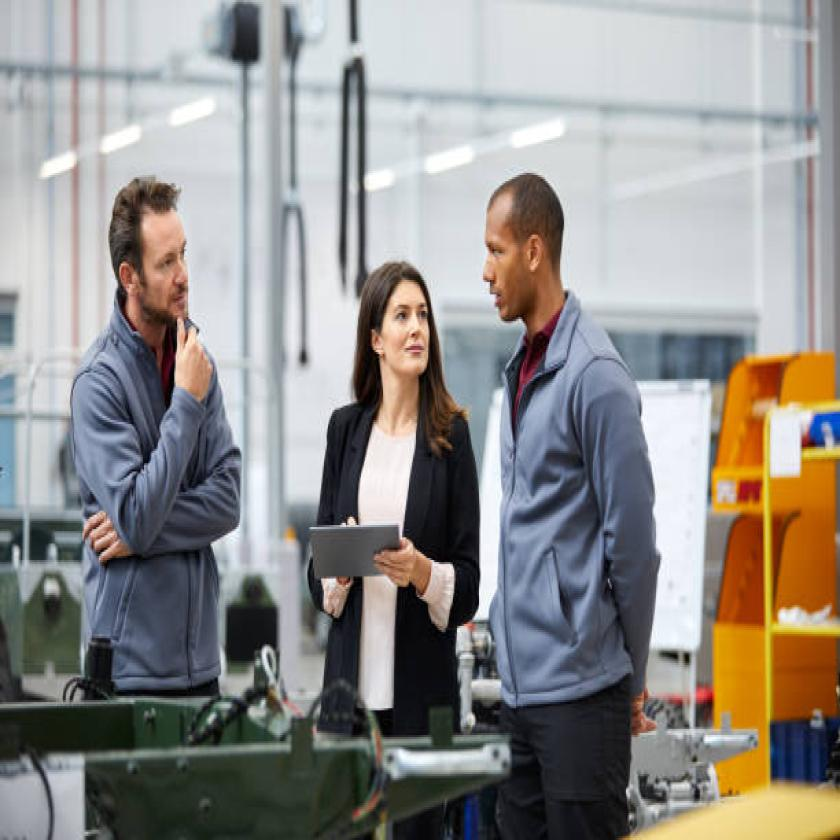Sin_casco: (100, 158, 209, 350), (342, 247, 444, 420), (478, 180, 567, 343)
